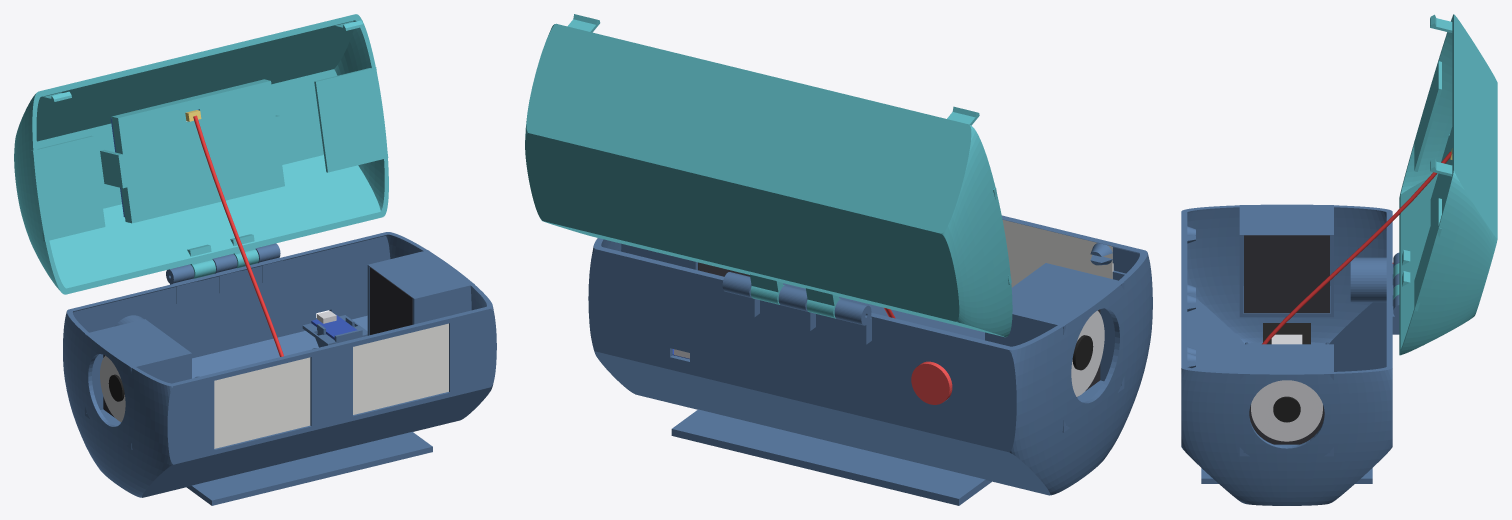
File: speaker_open.glb
The picture shows the model from 3 angles, left to right: view 1: azimuth 30°, elevation 25°; view 2: azimuth 150°, elevation 25°; view 3: azimuth 270°, elevation 25°; orthographic projection. The views are drawn at different scales.
Parts seen in each view (by area): view 1: lid, body, pr-1, pr1, driver1, cable, cone-1; view 2: lid, body, pr-1, sw_rocker, cone-1; view 3: body, lid, driver-1, cone1, cable, esp32, dust1, driver1.
Boxes of the visible parts, bbox=[...] form: lid: bbox=[14, 14, 388, 294]; body: bbox=[63, 232, 496, 505]; pr-1: bbox=[214, 357, 310, 448]; pr1: bbox=[353, 323, 448, 414]; driver1: bbox=[370, 267, 412, 334]; cable: bbox=[193, 115, 283, 356]; cone-1: bbox=[100, 355, 125, 421]; lid: bbox=[525, 14, 1012, 337]; body: bbox=[588, 215, 1152, 505]; pr-1: bbox=[1002, 220, 1113, 287]; sw_rocker: bbox=[911, 361, 952, 404]; cone-1: bbox=[1071, 310, 1104, 396]; body: bbox=[1181, 204, 1399, 505]; lid: bbox=[1393, 14, 1497, 355]; driver-1: bbox=[1244, 235, 1329, 313]; cone1: bbox=[1251, 380, 1322, 441]; cable: bbox=[1262, 151, 1451, 344]; esp32: bbox=[1263, 323, 1310, 344]; dust1: bbox=[1273, 396, 1300, 422]; driver1: bbox=[1249, 405, 1324, 444].
Size of the model in its own units: 235 by 218 by 184.
